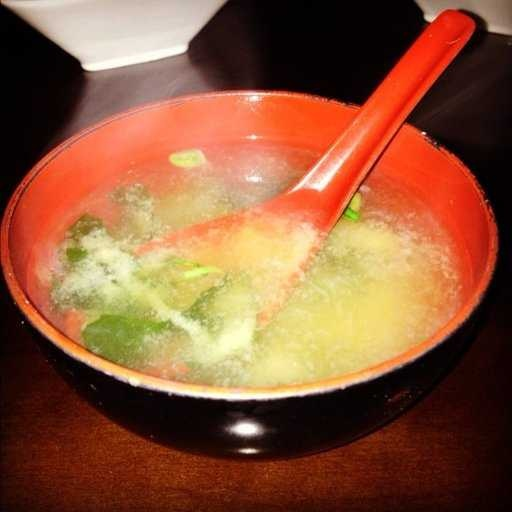soup: (15, 108, 476, 396)
